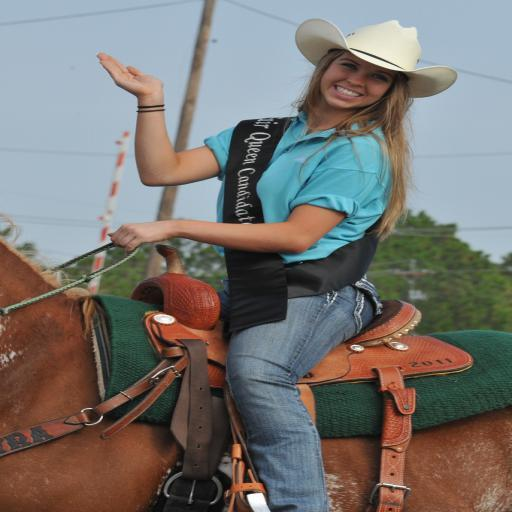horse: (0, 240, 512, 512)
